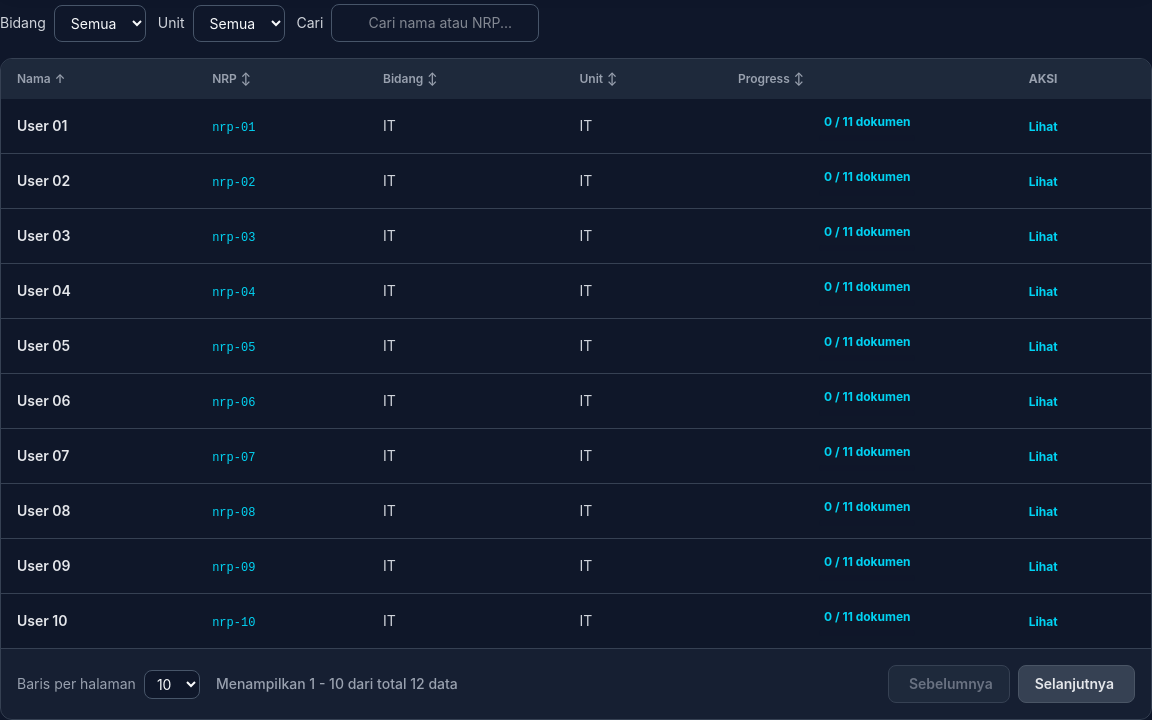
Test case: UserSosialisasiProgressPage › paginates the User list and preserves its state when returning from the detail page
(page scrolled)
Expected: the text "User 01" is shown, [17,117,68,134]
Expected: the text "User 11" is not shown
Click the button "Selanjutnya". click: (1076, 684)
box: [1018,665,1135,703]
(page scrolled)
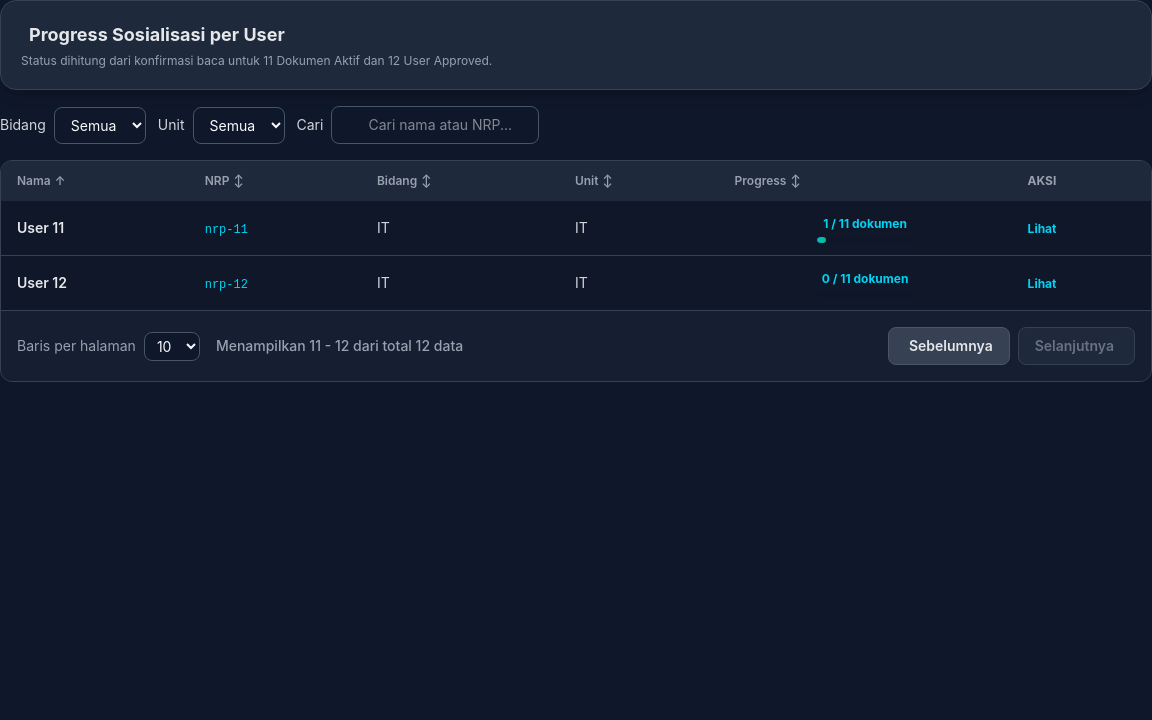
Expected: the text "User 11" is shown, [17,219,64,236]
Expected: the text "1 / 11 dokumen" is shown, [823,216,907,231]
Click the button with aria-label "Lihat detail sosialisasi User 11". click: (1042, 229)
box: [1028,221,1056,237]
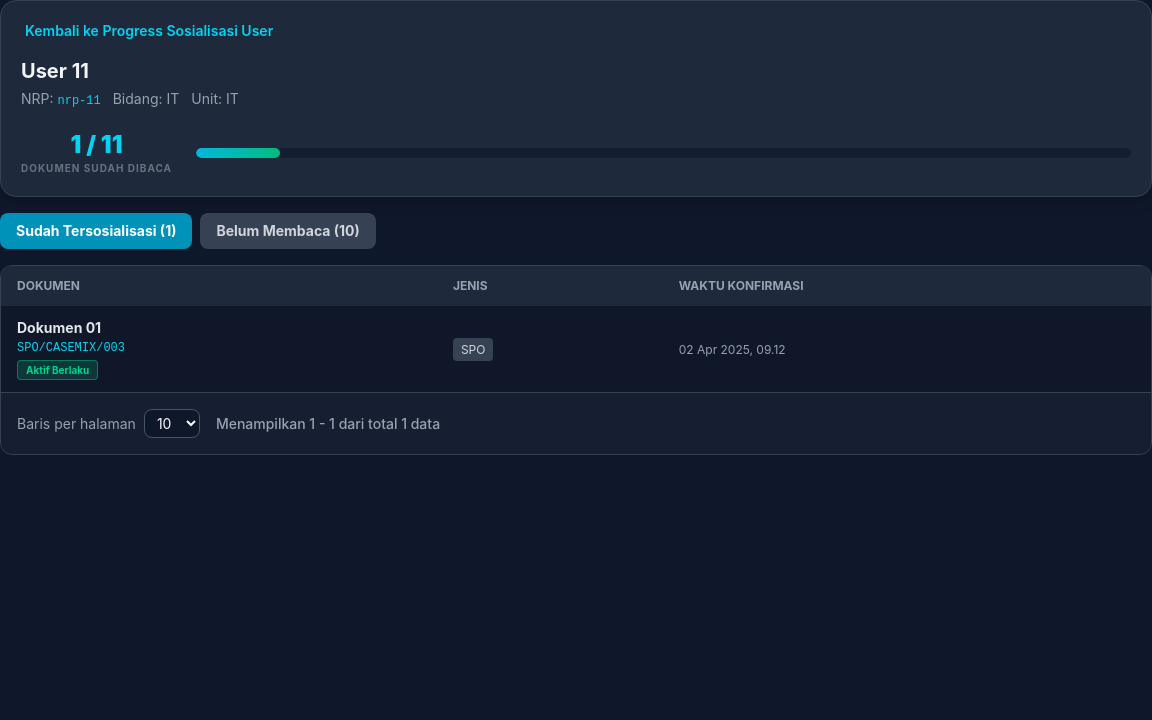
Expected: the text "1 / 11" is shown, [70,130,122,159]
Expected: the heading "User 11" is shown, [21,59,89,83]
Click the button "Kembali ke Progress Sosialisasi User". click: (147, 31)
box: [21,21,273,41]
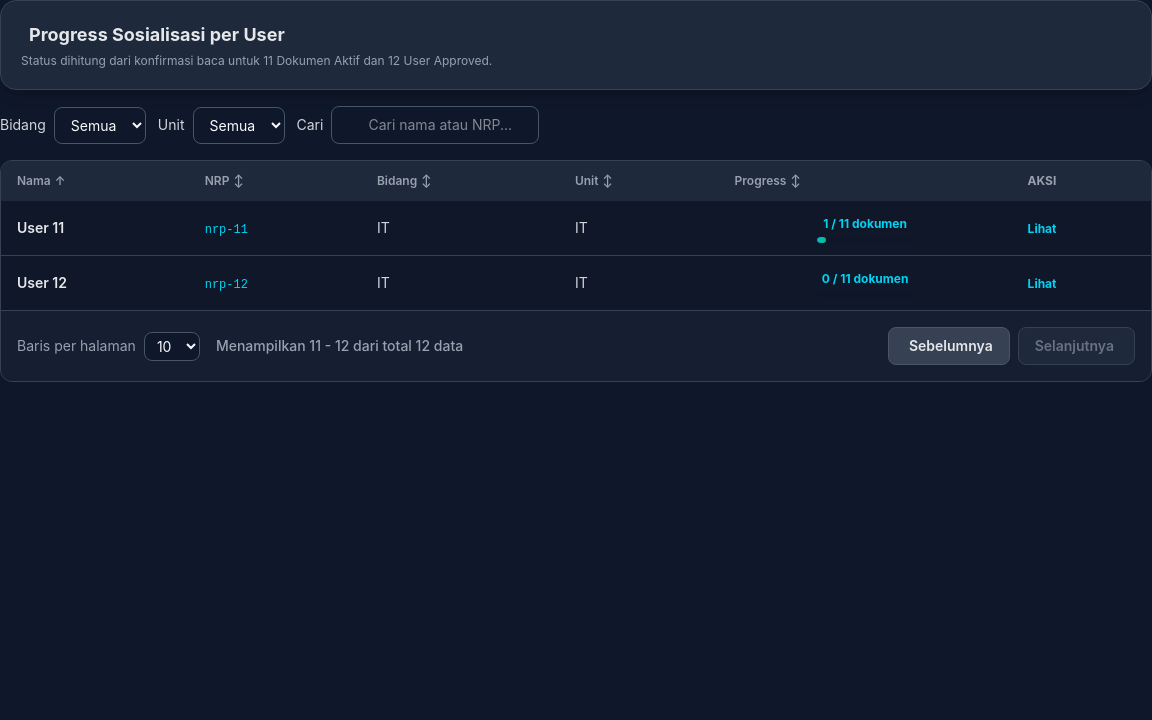
Expected: the text "User 11" is shown, [17,219,64,236]
Expected: the text "Menampilkan 11 - 12 dari total 12 data" is shown, [216,336,463,356]
Expected: the number of navigation bars named "Navigasi halaman tabel" is 1, [888,327,1135,365]
